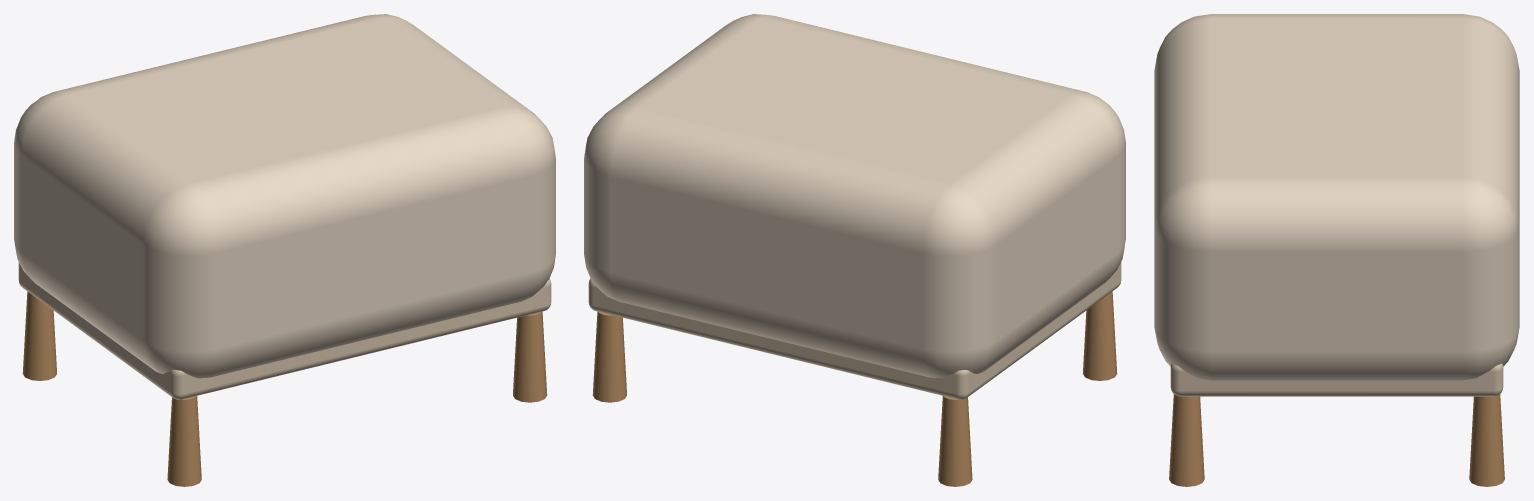
The model's file is ottoman.glb.
The picture shows the model from 3 angles, left to right: view 1: azimuth 30°, elevation 25°; view 2: azimuth 150°, elevation 25°; view 3: azimuth 270°, elevation 25°; orthographic projection. The views are drawn at different scales.
Parts seen in each view (by area): view 1: material-1-upholstery, material-2-trim, material-0-leg; view 2: material-1-upholstery, material-2-trim, material-0-leg; view 3: material-1-upholstery, material-2-trim, material-0-leg.
Boxes of the visible parts, bbox=[...] form: material-1-upholstery: bbox=[14, 14, 555, 378]; material-2-trim: bbox=[18, 262, 551, 399]; material-0-leg: bbox=[22, 291, 547, 486]; material-1-upholstery: bbox=[584, 14, 1125, 378]; material-2-trim: bbox=[588, 262, 1121, 399]; material-0-leg: bbox=[592, 291, 1117, 486]; material-1-upholstery: bbox=[1154, 14, 1519, 380]; material-2-trim: bbox=[1170, 363, 1503, 396]; material-0-leg: bbox=[1169, 394, 1504, 486].
Size of the model in its own units: 0.6 by 0.4 by 0.45.
